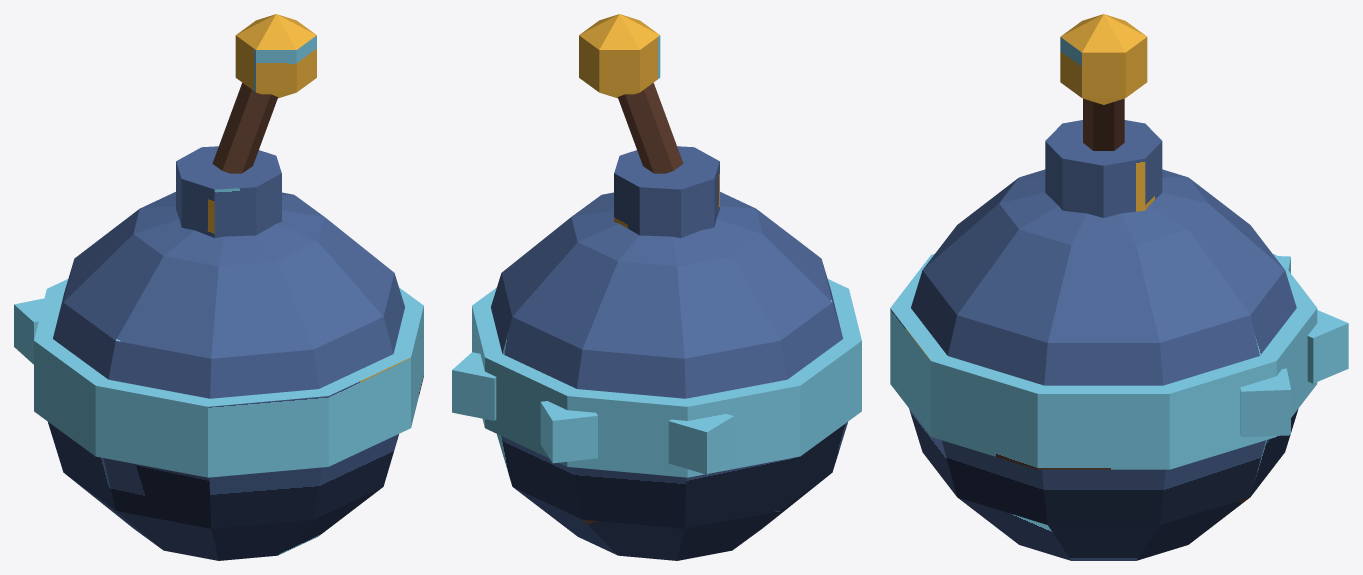
File: snow_bomb.glb
3 views of the same model, side by side, from view 1: azimuth 30°, elevation 25°; view 2: azimuth 150°, elevation 25°; view 3: azimuth 270°, elevation 25° (orthographic). The views are drawn at different scales.
Parts seen in each view (by area): view 1: snow_bomb; view 2: snow_bomb; view 3: snow_bomb.
Boxes of the visible parts, <box> form: snow_bomb: <box>14,14,423,560</box>; snow_bomb: <box>452,14,861,560</box>; snow_bomb: <box>890,14,1348,560</box>.
Bounding box in the file's own units: 0.485 × 0.73 × 0.5474.
Materials: 1 (1 with a texture image).
